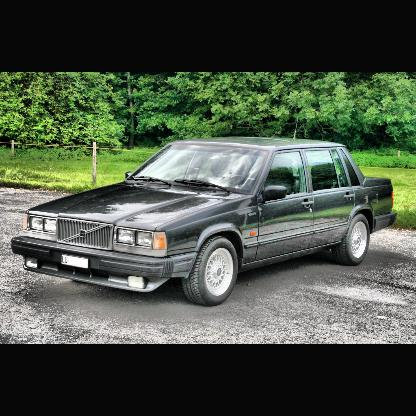Volvo 240 Sedan 1993: (10, 136, 397, 310)
